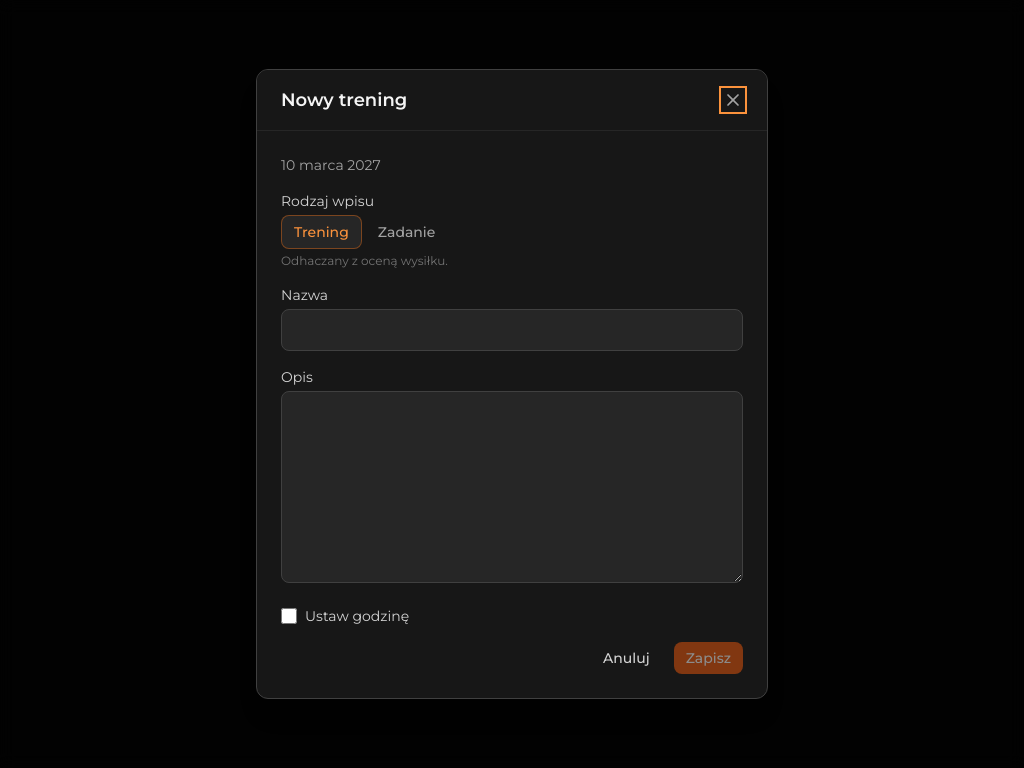
Test: TrainingFormModal › keeps the form open and shows the error when saving fails
Type "Siła" into the field labelled "Nazwa" at (512,330), box x1=281 y1=309 x2=743 y2=351
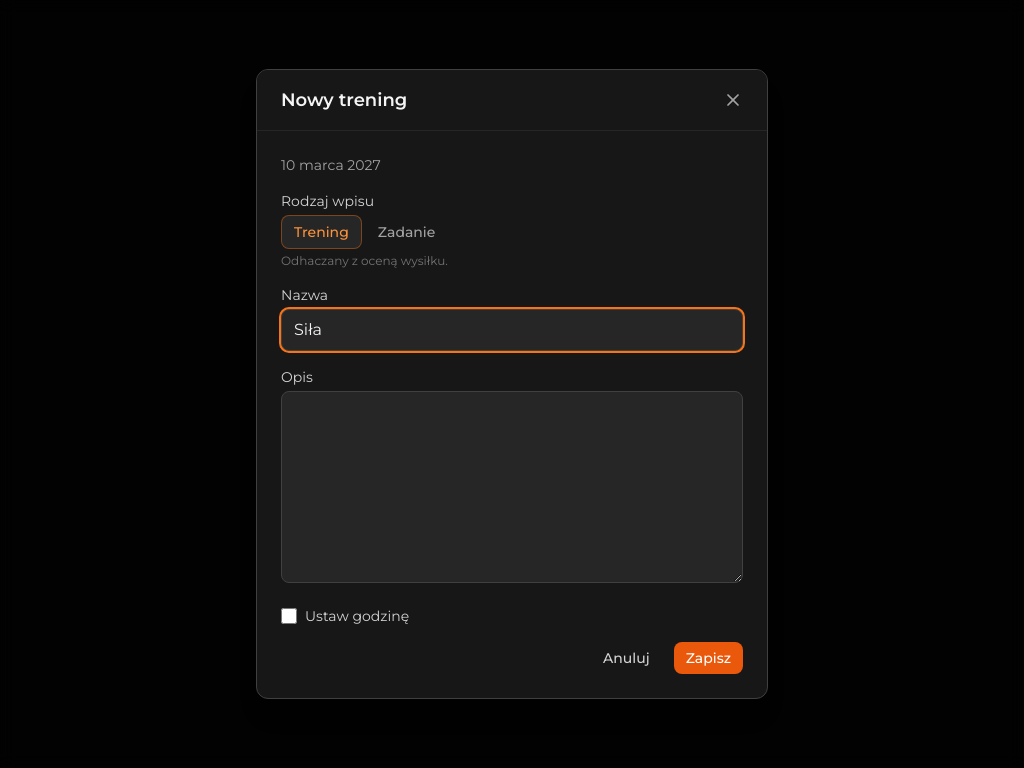
Click the button "Zapisz" at (708,658), box x1=674 y1=642 x2=743 y2=674
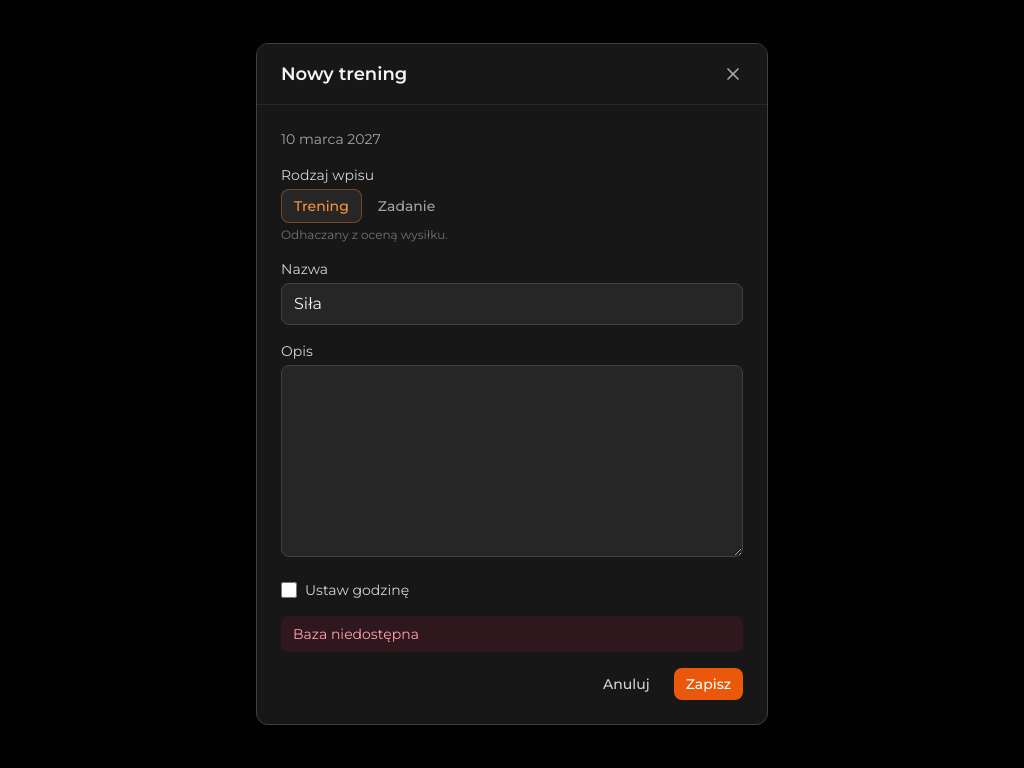
Expected: the button "Zapisz" is shown, x1=674 y1=668 x2=743 y2=700
Expected: the message reads "Baza niedostępna", x1=293 y1=625 x2=419 y2=643
